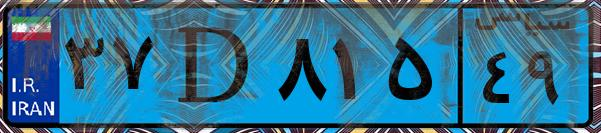1: (330, 28, 385, 110)
3: (57, 26, 110, 100)
4: (475, 38, 525, 113)
5: (385, 28, 445, 110)
7: (110, 28, 158, 98)
8: (270, 28, 330, 110)
9: (525, 38, 570, 115)
D: (158, 12, 270, 120)
